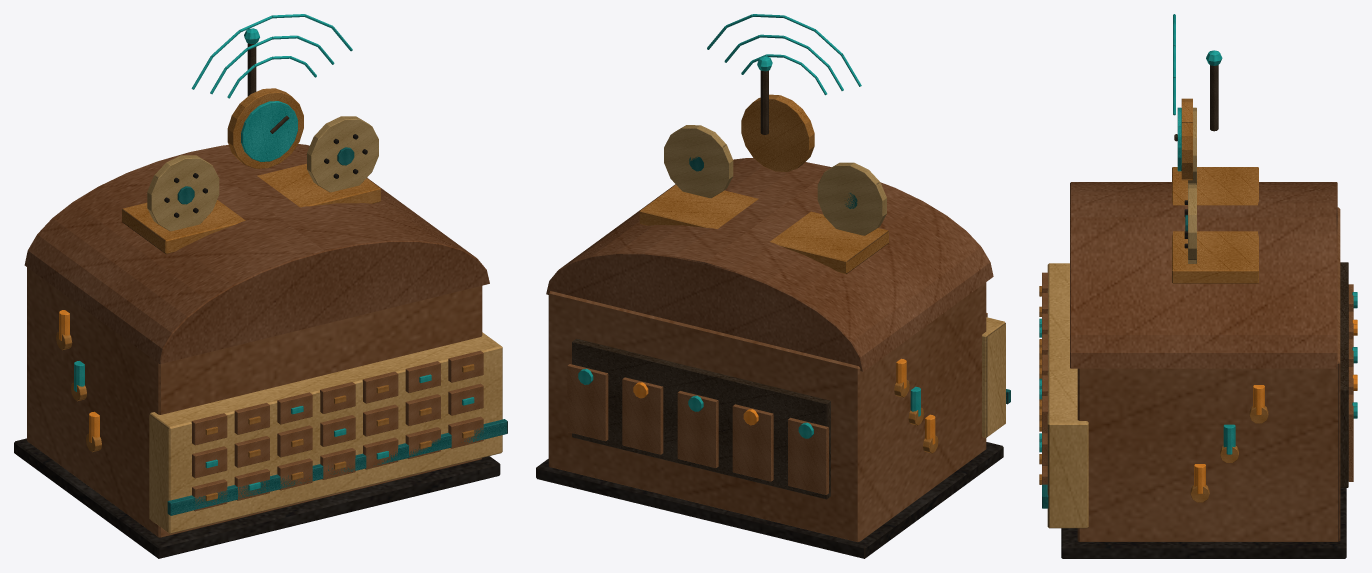
Rendered from playbook-library.glb.
The picture shows the model from 3 angles, left to right: view 1: azimuth 30°, elevation 25°; view 2: azimuth 150°, elevation 25°; view 3: azimuth 270°, elevation 25°; orthographic projection. The views are drawn at different scales.
Visible parts, largest first — view 1: PlaybookLibraryE7; view 2: PlaybookLibraryE7; view 3: PlaybookLibraryE7.
Boxes of the visible parts, x1=… form: PlaybookLibraryE7: x1=14, y1=14, x2=507, y2=558; PlaybookLibraryE7: x1=536, y1=14, x2=1010, y2=558; PlaybookLibraryE7: x1=1039, y1=14, x2=1357, y2=558.
Size of the model in its own units: 6.1 by 7.82 by 4.97.
1 material, 1 textured.
